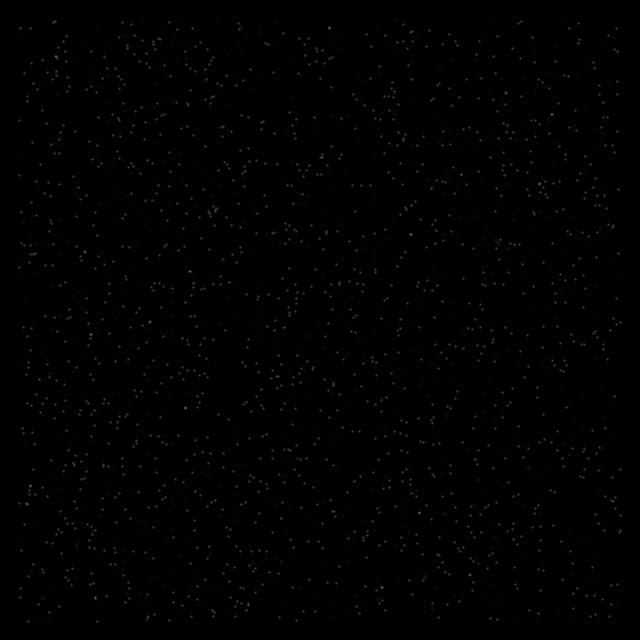drone: (20, 21, 622, 623)
